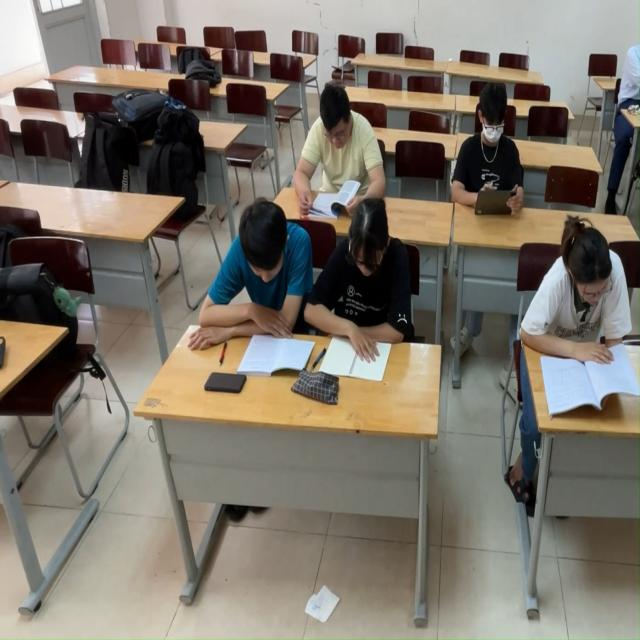read: (510, 216, 640, 430), (184, 194, 318, 383), (309, 189, 416, 397), (295, 83, 392, 195), (457, 83, 524, 219)
